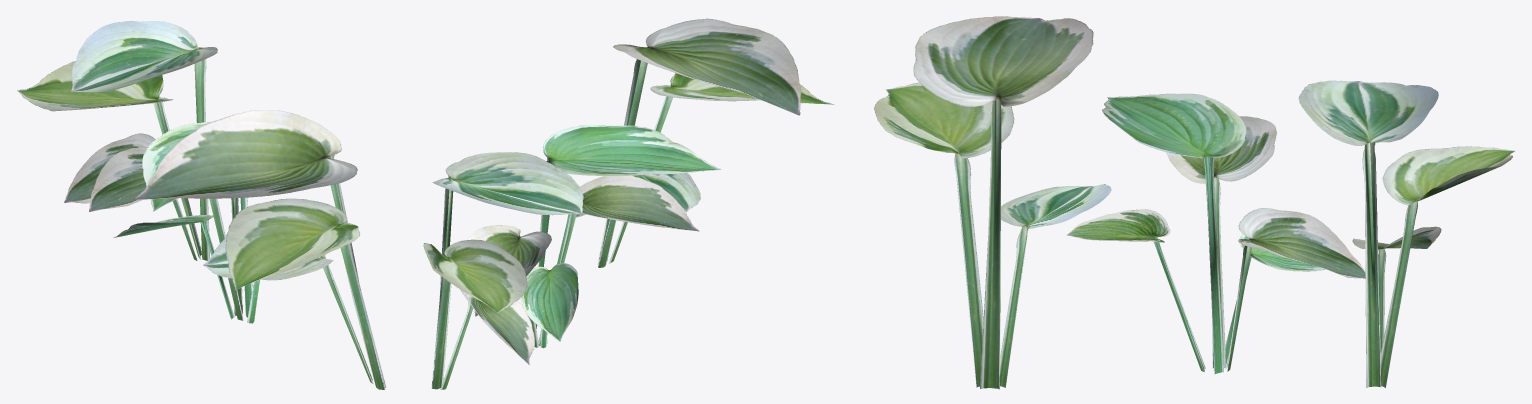
The model's file is plant_small_wg_00_line_11.fbx.
The picture shows the model from 3 angles, left to right: view 1: azimuth 30°, elevation 25°; view 2: azimuth 150°, elevation 25°; view 3: azimuth 270°, elevation 25°; orthographic projection. The views are drawn at different scales.
Visible parts, largest first — view 1: plant_small_wg_00_line_11; view 2: plant_small_wg_00_line_11; view 3: plant_small_wg_00_line_11.
Part boxes in pixels (x1=…): plant_small_wg_00_line_11: x1=17, y1=21, x2=386, y2=389; plant_small_wg_00_line_11: x1=423, y1=18, x2=834, y2=389; plant_small_wg_00_line_11: x1=874, y1=16, x2=1515, y2=389.
Size of the model in its own units: 44.71 by 47.62 by 95.36.
1 material, 1 textured.
